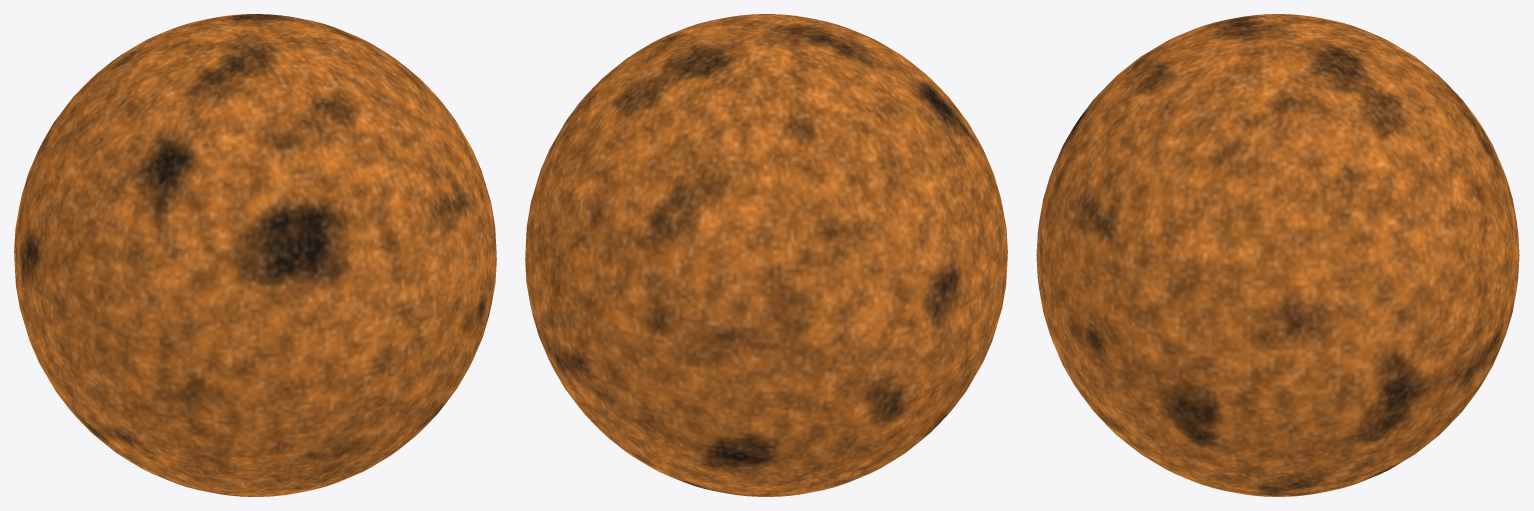
The model's file is estrela-yellow.glb.
3 views of the same model, side by side, from view 1: azimuth 30°, elevation 25°; view 2: azimuth 150°, elevation 25°; view 3: azimuth 270°, elevation 25° (orthographic).
Visible parts, largest first — view 1: Fotosfera · yellow; view 2: Fotosfera · yellow; view 3: Fotosfera · yellow.
Part boxes in pixels (bbox=[...]): Fotosfera · yellow: bbox=[14, 14, 496, 496]; Fotosfera · yellow: bbox=[525, 14, 1007, 496]; Fotosfera · yellow: bbox=[1036, 14, 1519, 496].
Size of the model in its own units: 2 by 2 by 2.
1 material, 1 textured.
